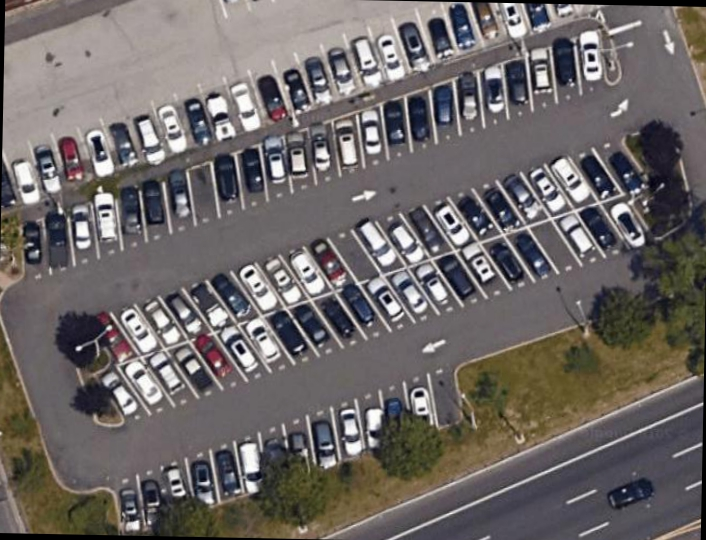parkingspot: (69, 134, 662, 429), (17, 25, 609, 288), (1, 2, 583, 216), (111, 360, 465, 536)
